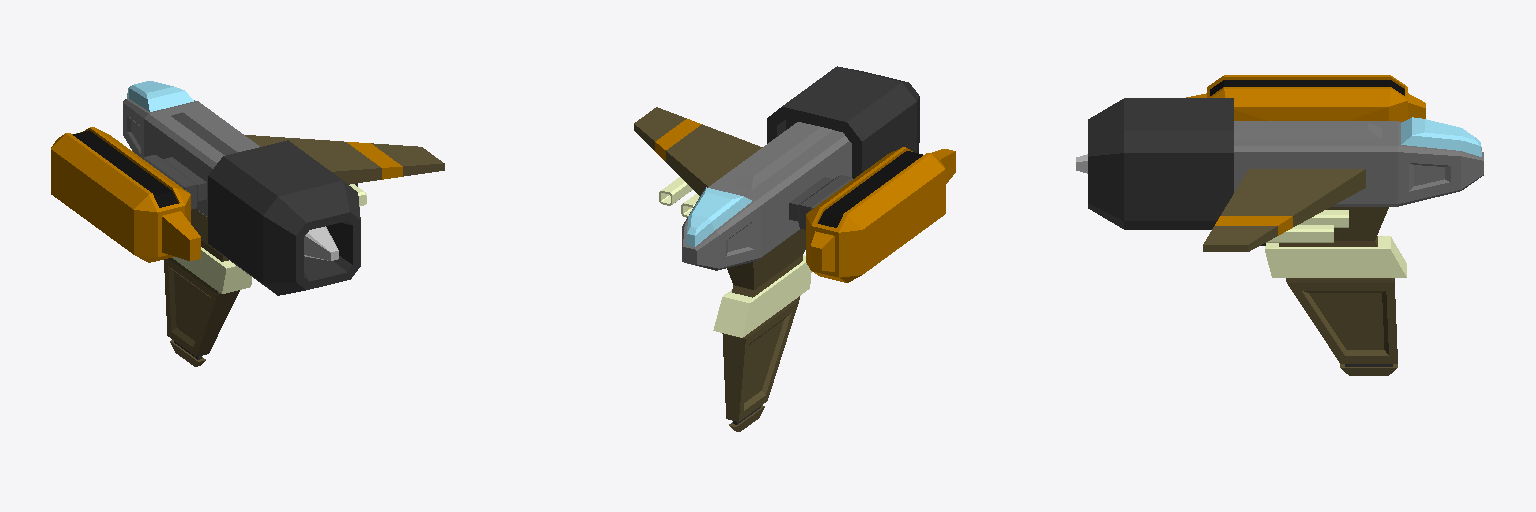
3 renders of one model, left to right at view 1: azimuth 30°, elevation 25°; view 2: azimuth 150°, elevation 25°; view 3: azimuth 270°, elevation 25°, orthographic.
Visible parts, largest first — view 1: Cube_Cube.001; view 2: Cube_Cube.001; view 3: Cube_Cube.001.
Part boxes in pixels (x1,y1,x2,y2): Cube_Cube.001: (51,81,444,366); Cube_Cube.001: (634,66,955,431); Cube_Cube.001: (1076,75,1483,375).
Bounding box in the file's own units: 6.28 × 5.22 × 7.42.
Materials: 2 (1 with a texture image).